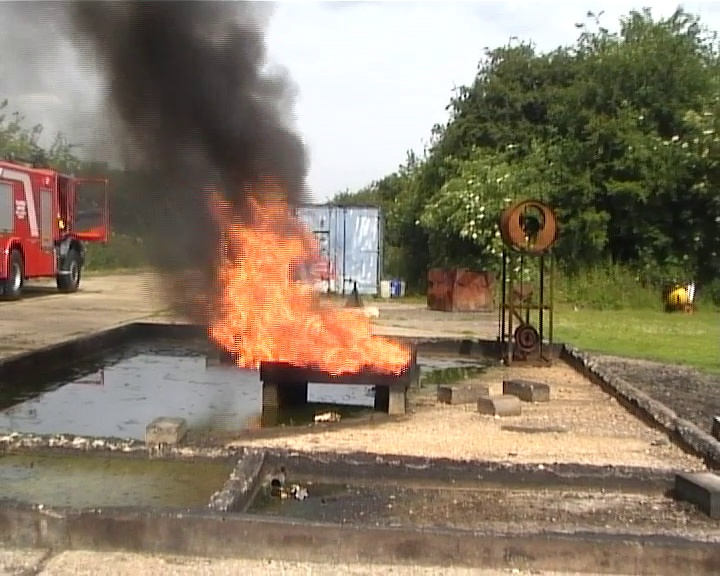fire: (214, 219, 408, 371)
